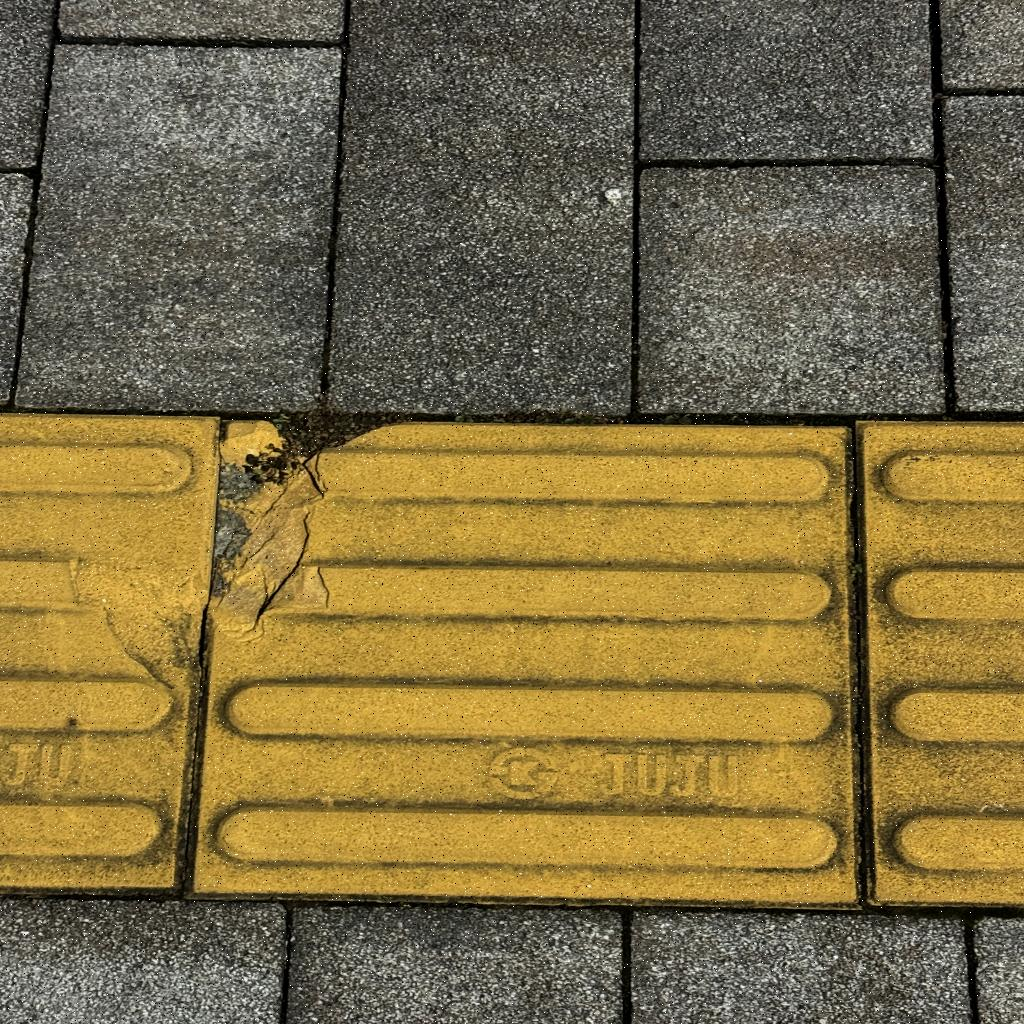Straight block broken: (193, 419, 865, 911)
